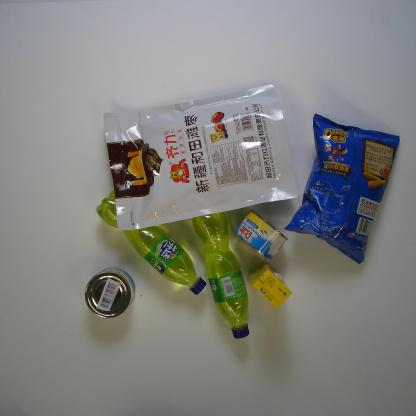Canned Food: (82, 266, 137, 322), (234, 210, 288, 262)
Dried Food: (101, 84, 300, 232)
Drink: (94, 189, 209, 296), (191, 204, 251, 340), (250, 265, 293, 311)
Puffed Food: (281, 114, 400, 264)
